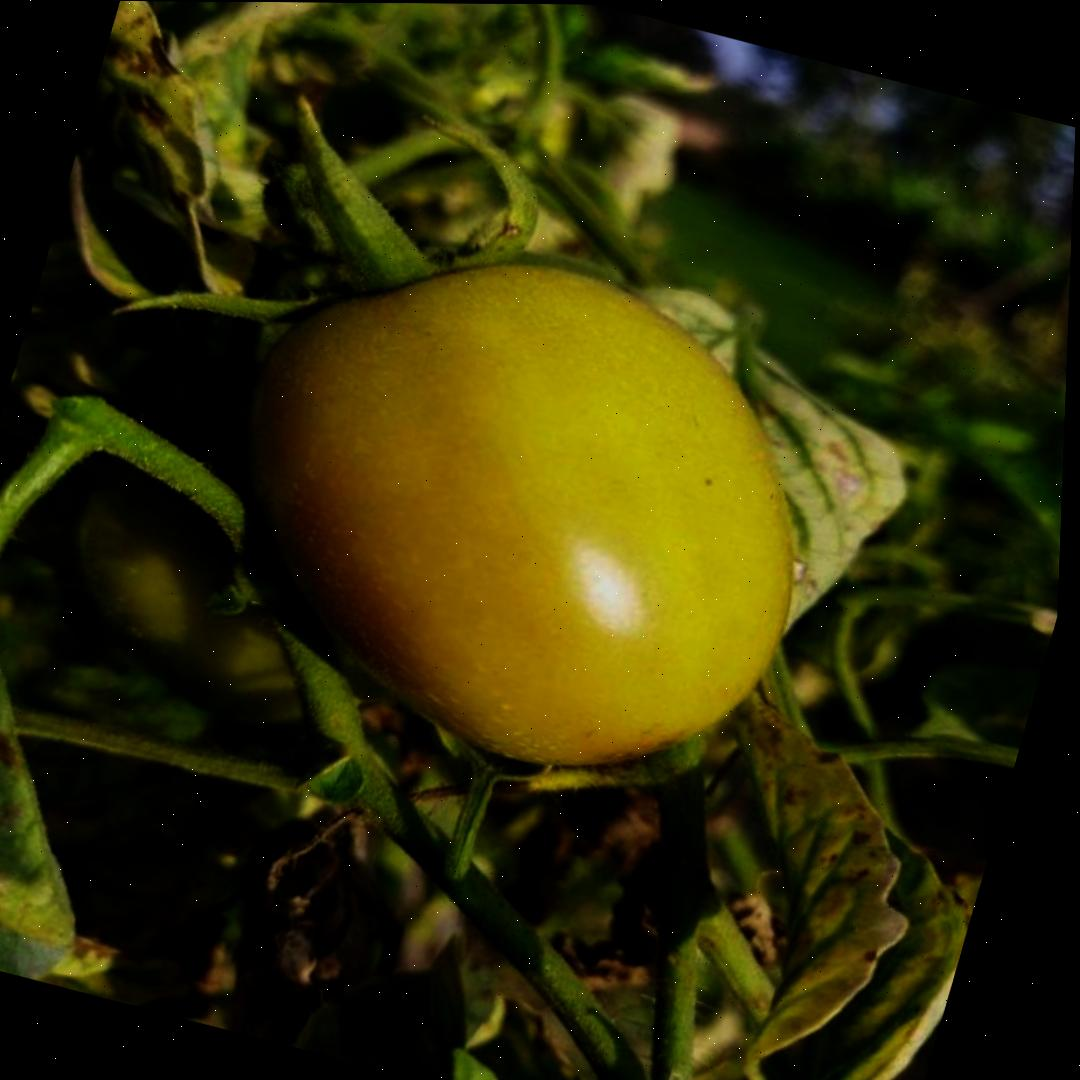setengah_matang: (160, 194, 876, 819)
